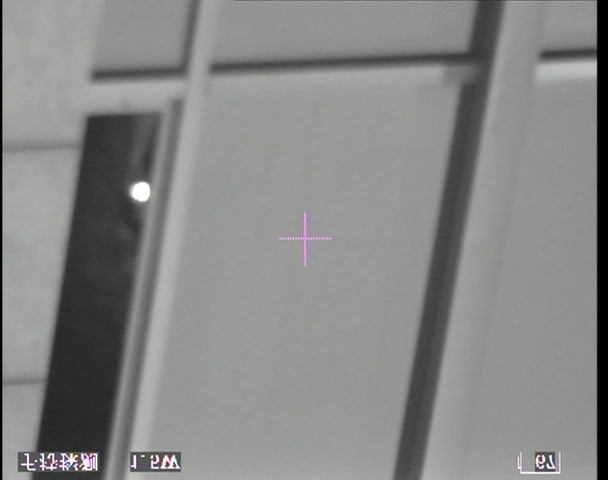my: (130, 179, 152, 203)
